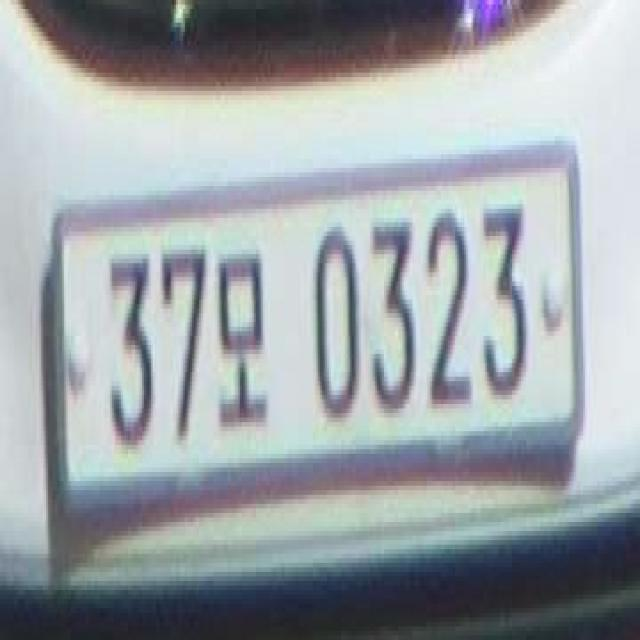0: (313, 222, 361, 418)
2: (427, 204, 473, 413)
3: (106, 250, 154, 449), (480, 200, 528, 395), (370, 218, 414, 417)
7: (158, 240, 206, 436)
license_plate: (51, 141, 585, 513)
mo: (218, 245, 268, 427)
